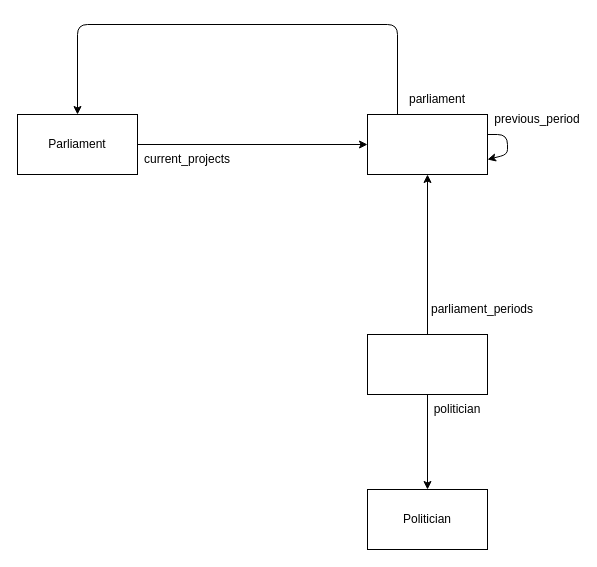
Image size: 597x567. Some labels were removed from this diagram. Each missing label, with the box of its shape:
Mandates: (366, 334, 488, 394)
ParliamentPeriod: (366, 114, 488, 174)
